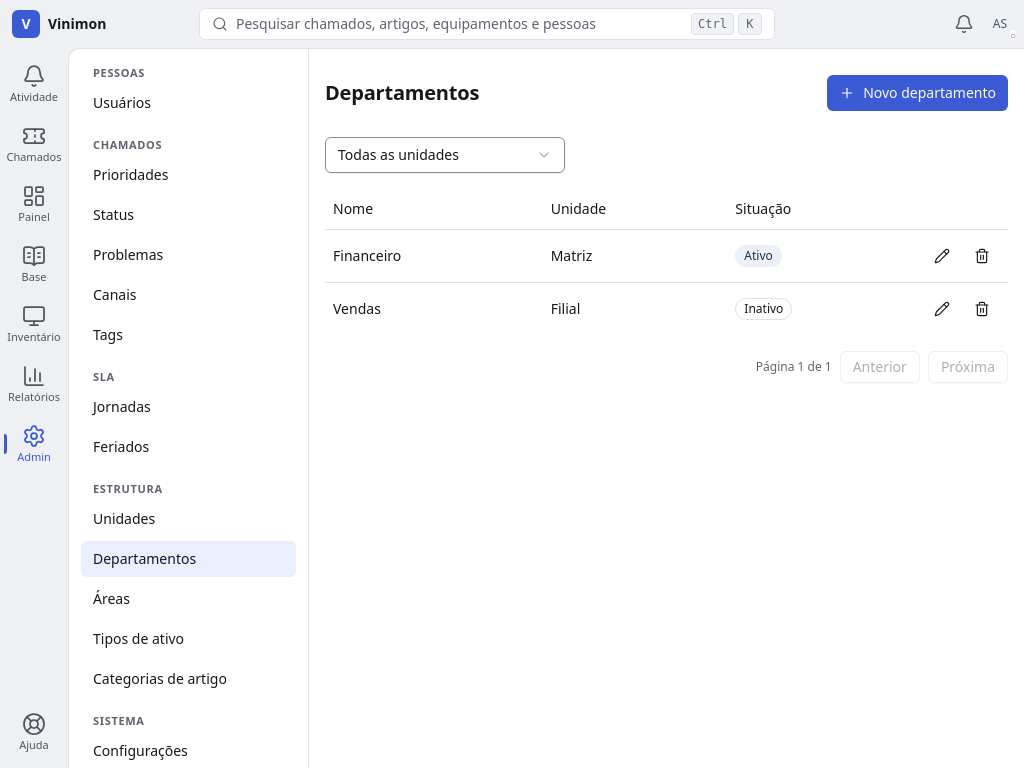
Test: /admin/departamentos › 409 ao excluir mostra a mensagem do servidor
Click the button named "Excluir Financeiro".
click(982, 256)  # box [964,238,1000,274]
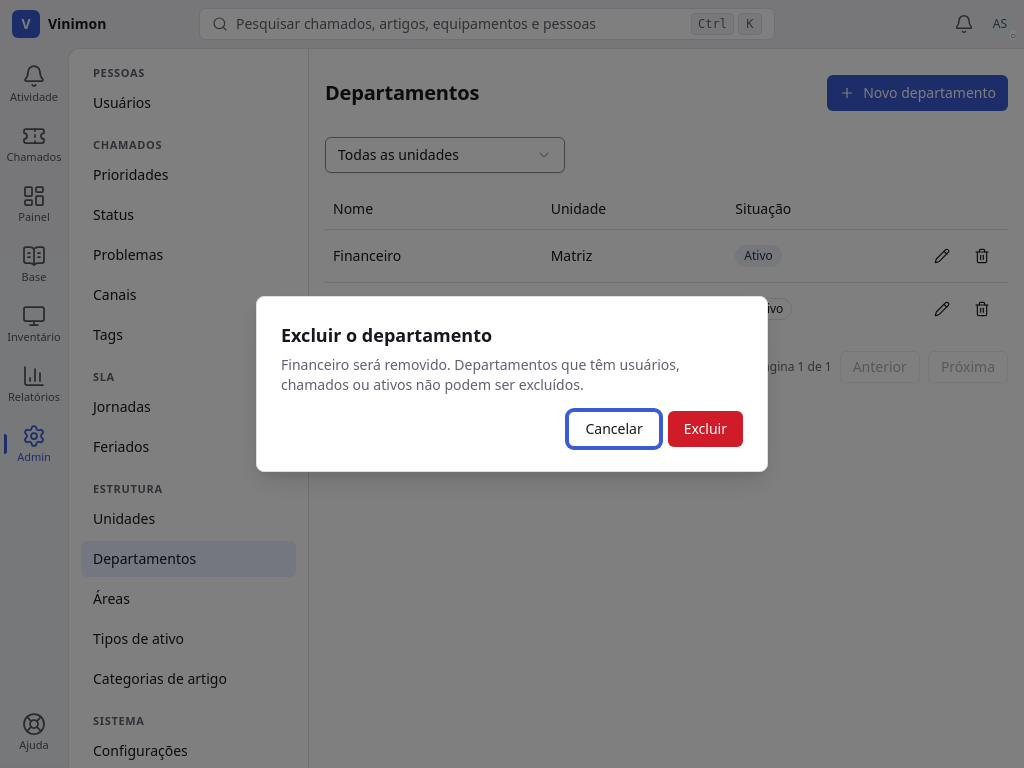
Click the button "Excluir".
click(705, 429)  # box [668,411,743,447]
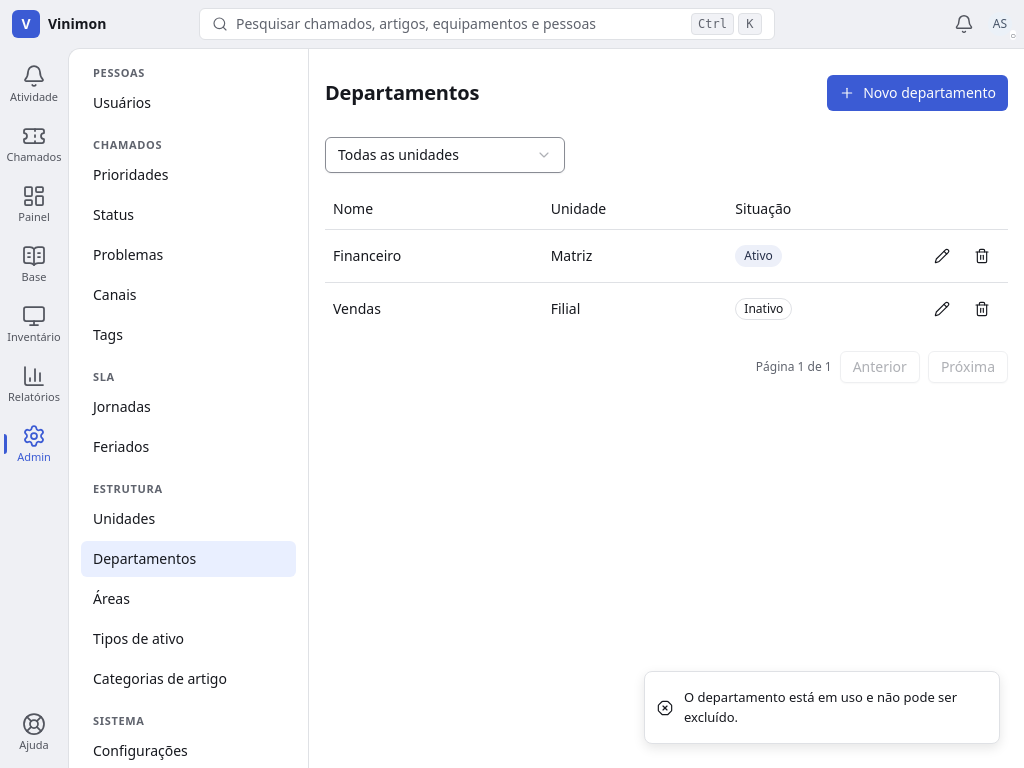
Now the text "O departamento está em uso e não pode ser excluído." is shown, box [684,688,983,727]
